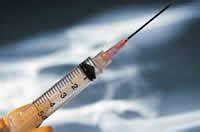Glove: (28, 126, 53, 131)
Syringe: (6, 4, 170, 131)
